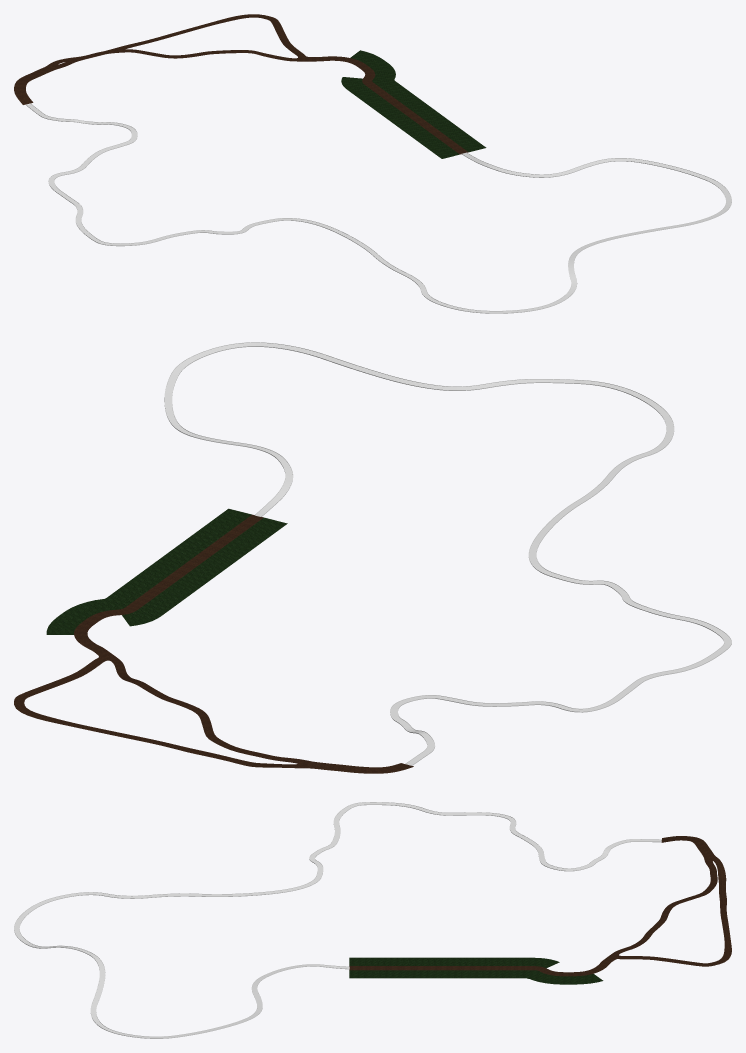
The model's file is Track_01.glb.
3 renders of one model, top to bottom at view 1: azimuth 30°, elevation 25°; view 2: azimuth 150°, elevation 25°; view 3: azimuth 270°, elevation 25°, orthographic. The views are drawn at different scales.
Visible parts, largest first — view 1: Road, Track; view 2: Road, Track; view 3: Road, Track.
Part boxes in pixels (box(x1,y1,x2,y2)): Road: box(14, 14, 486, 158); Track: box(26, 104, 731, 313); Road: box(14, 508, 413, 773); Track: box(164, 342, 731, 765); Road: box(349, 836, 731, 984); Track: box(14, 802, 661, 1038).
Bounding box in the file's own units: 558 × 10.38 × 691.
Materials: 2 (2 with a texture image).
